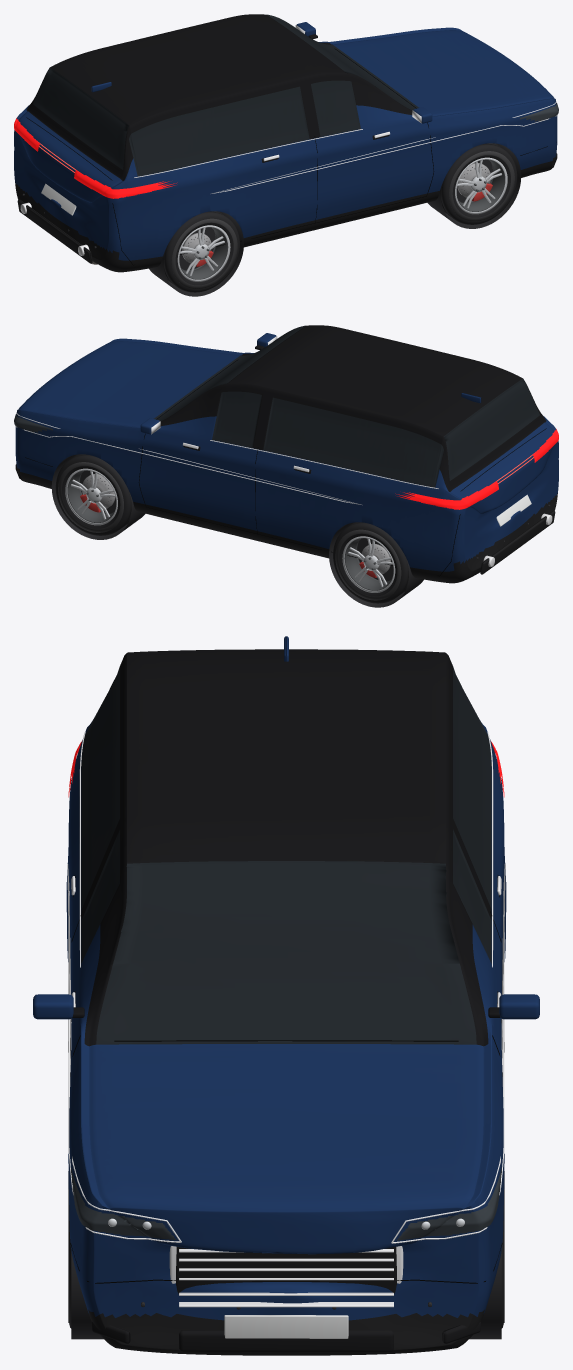
Rendered from suv.glb.
The picture shows the model from 3 angles, top to bottom: view 1: azimuth 30°, elevation 25°; view 2: azimuth 150°, elevation 25°; view 3: azimuth 270°, elevation 25°; orthographic projection. The views are drawn at different scales.
Visible parts, largest first — view 1: karosserie, bt:rad_hr, bt:rad_vr, rueckleuchte_-1, diffusor, radhausschale.003, radhausschale.001, scheinwerfer_rand_-1, bt:bremse_vr, bt:bremse_hr, kennzeichen_hinten; view 2: karosserie, bt:rad_hl, bt:rad_vl, rueckleuchte_1, diffusor, radhausschale.002, radhausschale, scheinwerfer_rand_1, bt:bremse_vl, bt:bremse_hl, kennzeichen_hinten; view 3: karosserie, grill, lufteinlass, kennzeichen_vorn, scheinwerfer_-1, scheinwerfer_1, scheinwerfer_rand_1, scheinwerfer_rand_-1, grill_lamelle_0, radhausschale, radhausschale.001, spiegel_1 (+3 smaller).
Boxes of the visible parts, x1,y1,x2,y2 form: karosserie: (14, 14, 557, 272); bt:rad_hr: (164, 211, 239, 292); bt:rad_vr: (441, 143, 517, 224); rueckleuchte_-1: (74, 170, 177, 198); diffusor: (17, 199, 92, 263); radhausschale.003: (149, 211, 243, 296); radhausschale.001: (427, 143, 521, 228); scheinwerfer_rand_-1: (211, 101, 556, 193); bt:bremse_vr: (457, 163, 492, 201); bt:bremse_hr: (182, 233, 213, 266); kennzeichen_hinten: (41, 183, 76, 215); karosserie: (15, 325, 558, 583); bt:rad_hl: (333, 522, 408, 603); bt:rad_vl: (55, 454, 131, 535); rueckleuchte_1: (395, 481, 498, 509); diffusor: (480, 510, 555, 574); radhausschale.002: (329, 522, 423, 607); radhausschale: (51, 454, 145, 539); scheinwerfer_rand_1: (16, 412, 362, 505); bt:bremse_vl: (80, 474, 115, 512); bt:bremse_hl: (359, 544, 390, 577); kennzeichen_hinten: (496, 494, 531, 526); karosserie: (66, 649, 506, 1355); grill: (176, 1246, 396, 1294); lufteinlass: (179, 1330, 393, 1352); kennzeichen_vorn: (224, 1315, 348, 1338); scheinwerfer_-1: (71, 1168, 176, 1239); scheinwerfer_1: (396, 1168, 501, 1240); scheinwerfer_rand_1: (391, 864, 505, 1243); scheinwerfer_rand_-1: (67, 864, 181, 1242); grill_lamelle_0: (179, 1302, 393, 1307); radhausschale: (469, 1252, 501, 1339); radhausschale.001: (71, 1252, 103, 1339); spiegel_1: (499, 994, 539, 1019).
Size of the model in its own units: 4.52 by 1.7 by 2.12.
